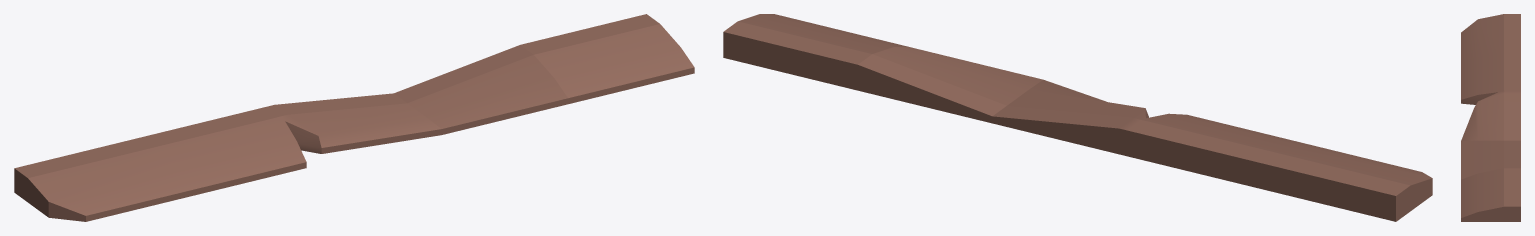
File: SM_Wooden_Plank_Railing_05.fbx
3 renders of one model, left to right at view 1: azimuth 30°, elevation 25°; view 2: azimuth 150°, elevation 25°; view 3: azimuth 270°, elevation 25°, orthographic. The views are drawn at different scales.
Parts seen in each view (by area): view 1: Wooden_Plank_Railing_05; view 2: Wooden_Plank_Railing_05; view 3: Wooden_Plank_Railing_05.
Boxes of the visible parts, box(x1,y1,x2,y2) form: Wooden_Plank_Railing_05: box(14, 14, 694, 221); Wooden_Plank_Railing_05: box(723, 14, 1432, 221); Wooden_Plank_Railing_05: box(1461, 14, 1520, 221).
Bounding box in the file's own units: 116 × 4.26 × 15.21.
